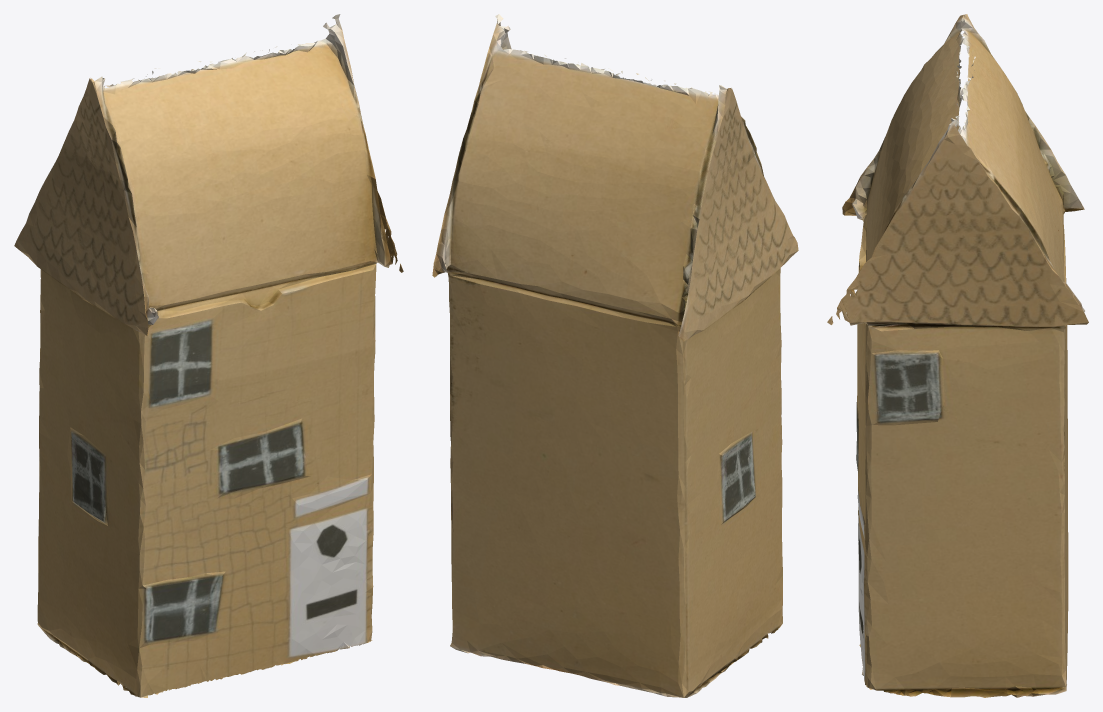
The picture shows the model from 3 angles, left to right: view 1: azimuth 30°, elevation 25°; view 2: azimuth 150°, elevation 25°; view 3: azimuth 270°, elevation 25°; orthographic projection. The views are drawn at different scales.
Parts seen in each view (by area): view 1: Object_0.001; view 2: Object_0.001; view 3: Object_0.001.
Part boxes in pixels (left/top/right/bottom): Object_0.001: left=14, top=14, right=403, bottom=697; Object_0.001: left=432, top=14, right=798, bottom=697; Object_0.001: left=827, top=14, right=1088, bottom=697.
Size of the model in its own units: 11.35 by 25.34 by 10.26.
Materials: 1 (1 with a texture image).
